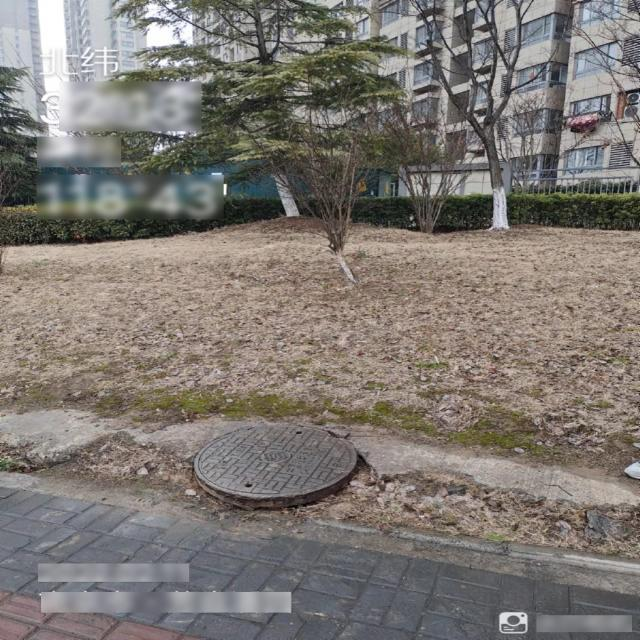Good: (190, 420, 366, 507)
